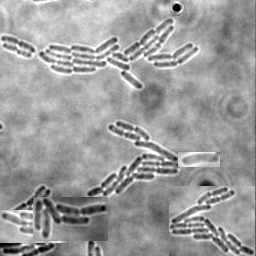Dividing: (1, 34, 37, 52), (3, 41, 33, 57)
Microcolony: (40, 18, 199, 89), (87, 120, 181, 197), (169, 186, 255, 256), (33, 197, 108, 241), (0, 210, 67, 243), (1, 243, 56, 255), (178, 152, 220, 167)
